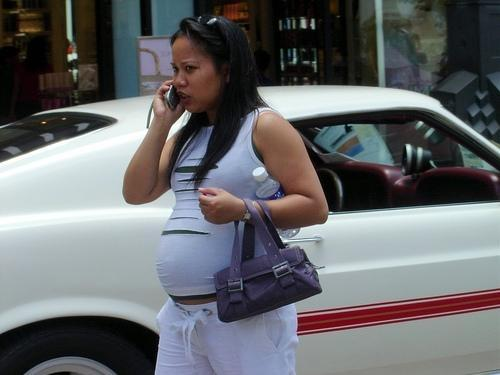car: (0, 86, 500, 370)
